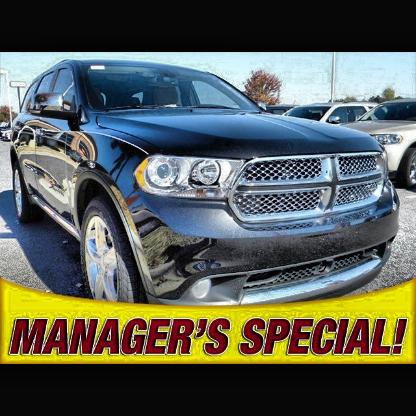Dodge Durango SUV 2012: (10, 58, 403, 308)
